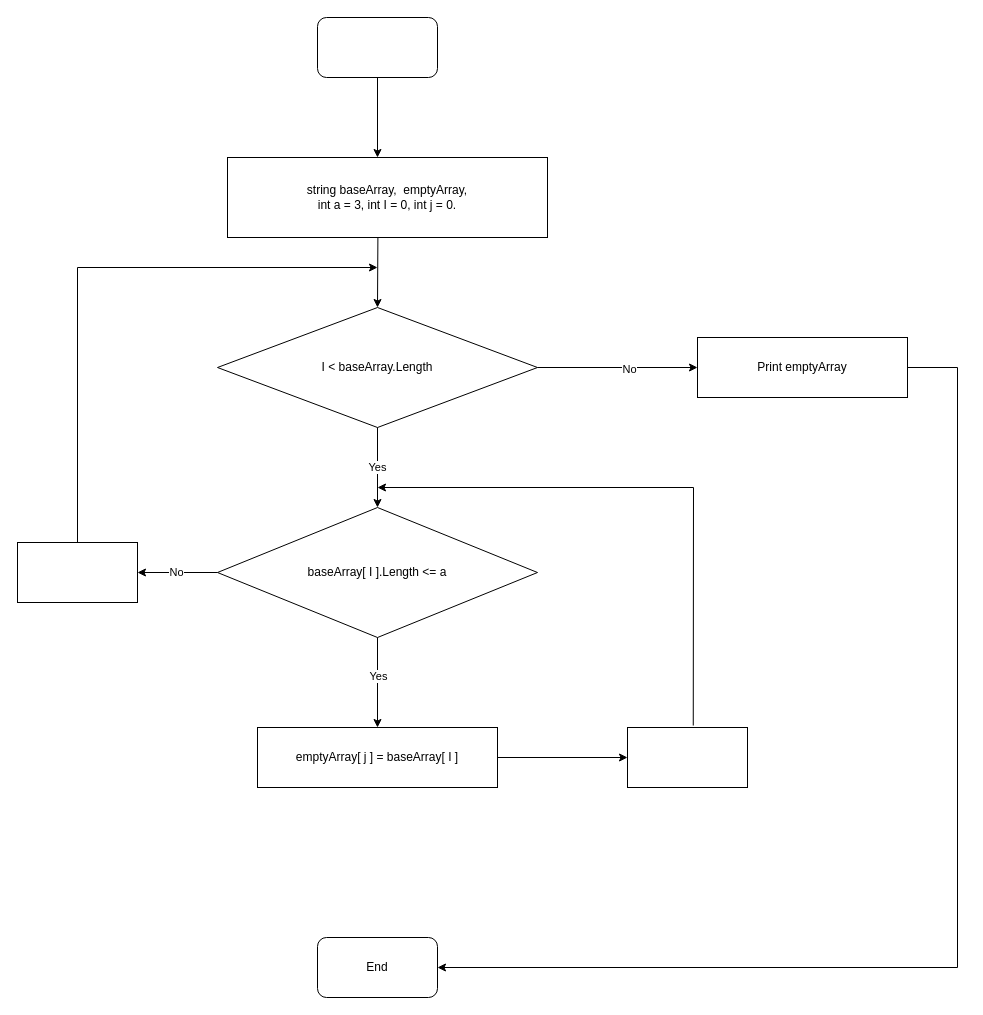
The diagram is 983 pixels wide and 1015 high, and some of its shapes have lost their labels. The shapes that lost their labels are listed below. From the top down, each one's box as (x1, y1, x2, y2) in pixels, then its label:
(316, 16, 438, 78): `Начало
(16, 542, 138, 602): I = +1
(626, 726, 748, 788): j = +1
